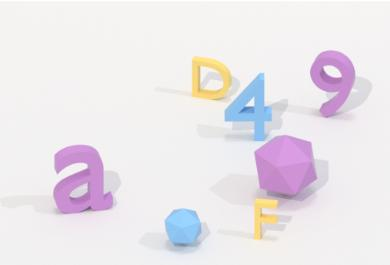0-TronCanh: (254, 134, 320, 198), (158, 202, 203, 248)
4: (223, 71, 277, 140)
9: (305, 47, 357, 122)
D: (188, 53, 233, 102)
F: (250, 196, 285, 244)
a: (50, 140, 116, 218)
